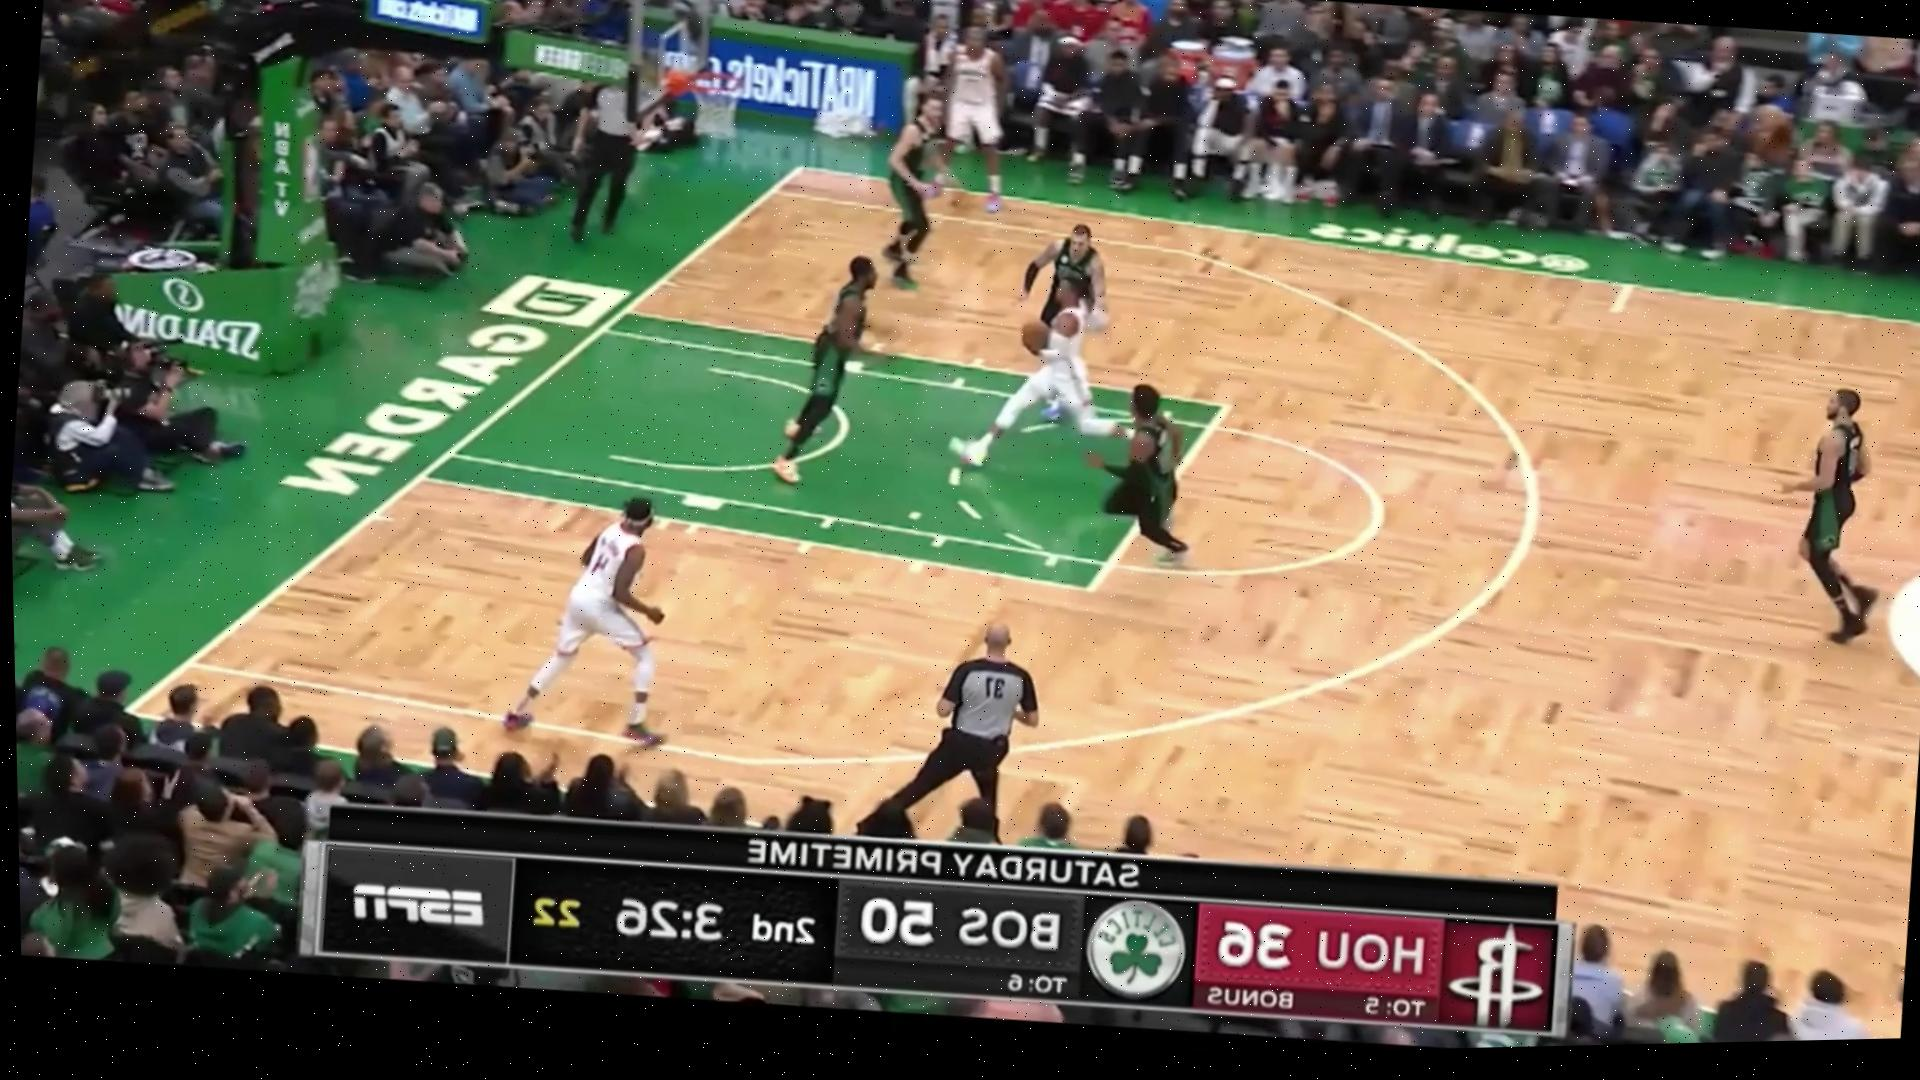no_foul: (893, 38, 1001, 264)
